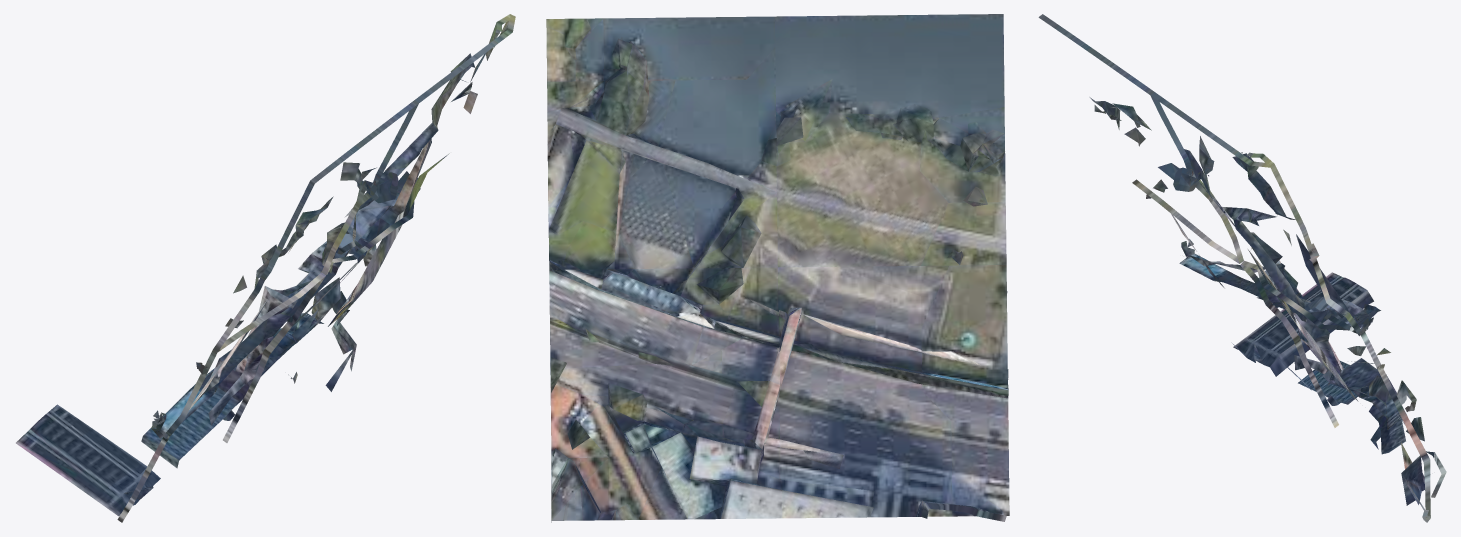
3 views of the same model, side by side, from view 1: azimuth 30°, elevation 25°; view 2: azimuth 150°, elevation 25°; view 3: azimuth 270°, elevation 25° (orthographic). The views are drawn at different scales.
Bounding box in the file's own units: 173 × 142 × 132.
Materials: 2 (2 with a texture image).
